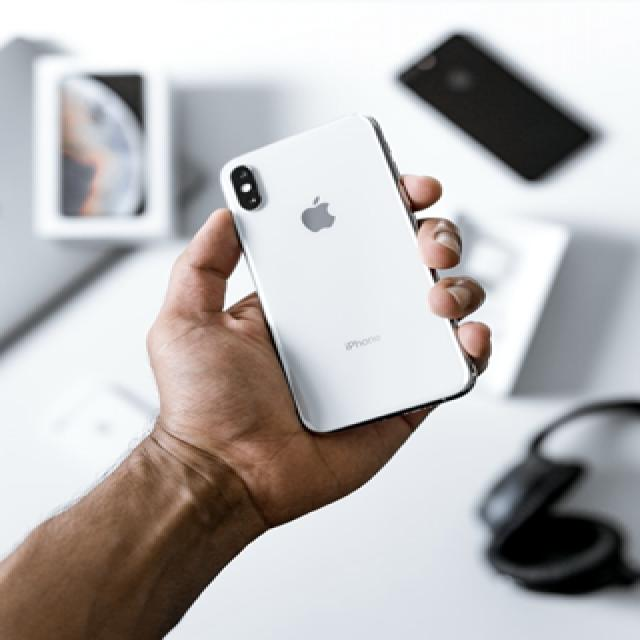cellphone: (218, 112, 478, 434)
